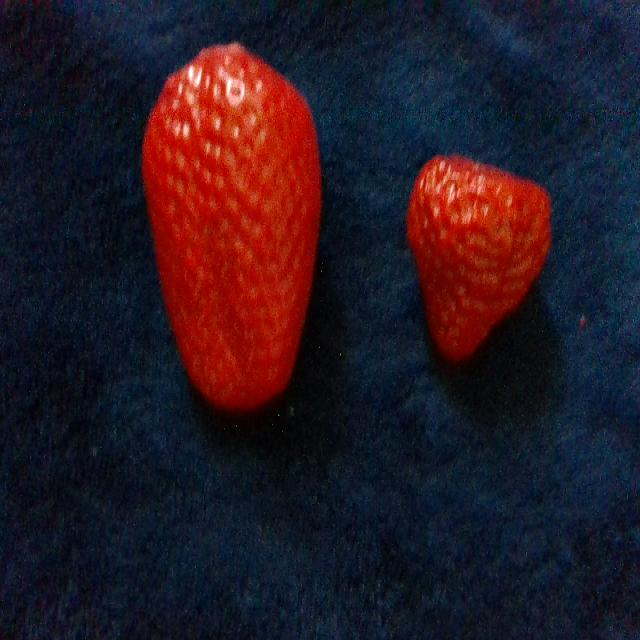chica_roja: (408, 156, 550, 360)
grande_roja: (143, 45, 321, 408)
